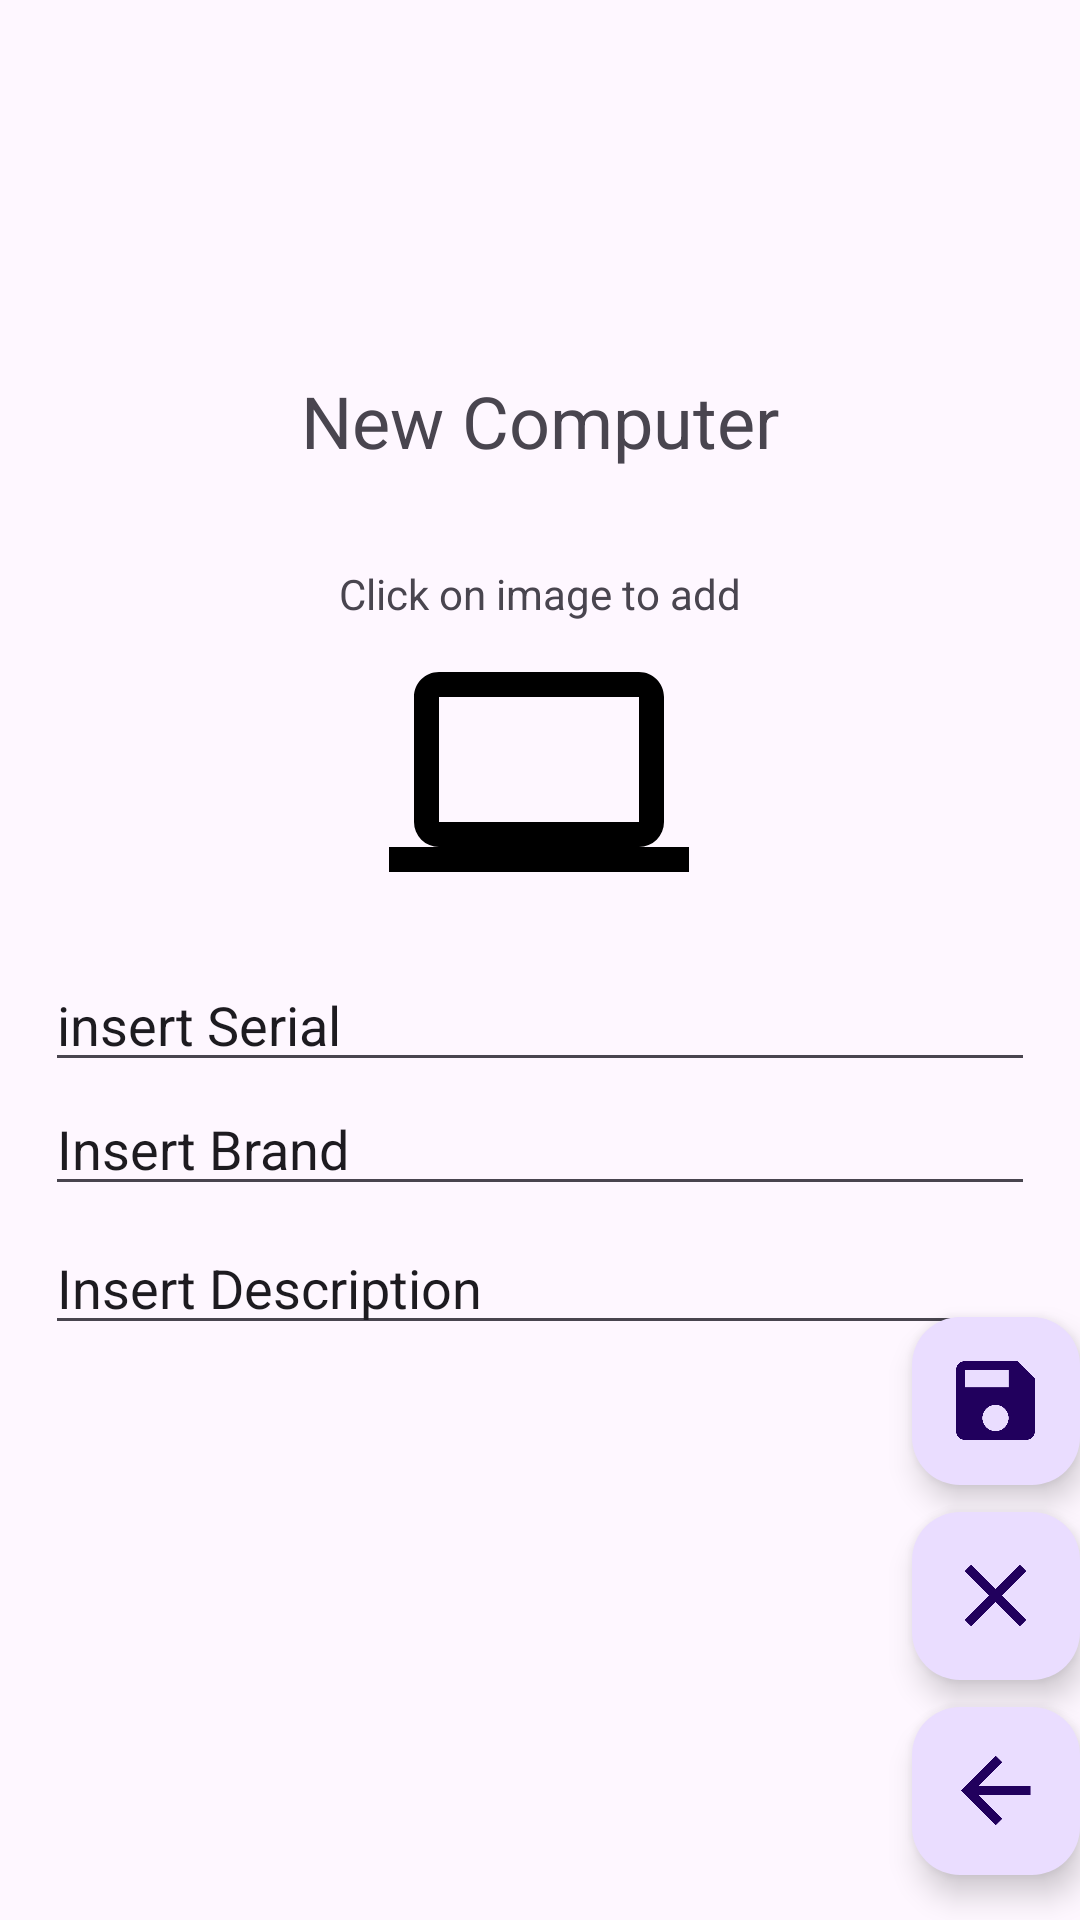

Screen size 1080px x 1920px. Icon name, then its box in pixels as (x1, y1, x2, y2):
arrow back: (912, 1707, 1080, 1875)
clear: (912, 1512, 1080, 1680)
id computer: (389, 672, 689, 872)
save: (912, 1317, 1080, 1485)
